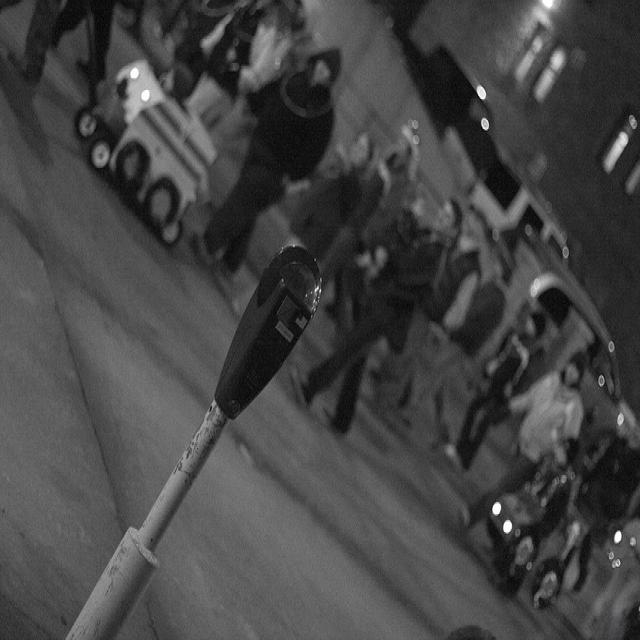Vehicle: (486, 232, 639, 446), (443, 112, 574, 250), (393, 30, 495, 190), (421, 43, 496, 133)
